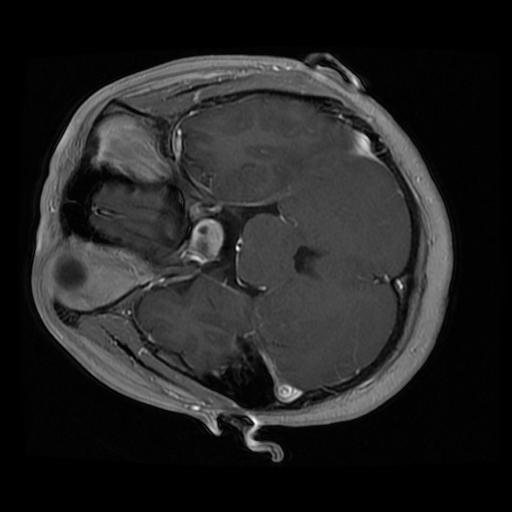pituitary tumour: (187, 218, 224, 263)
